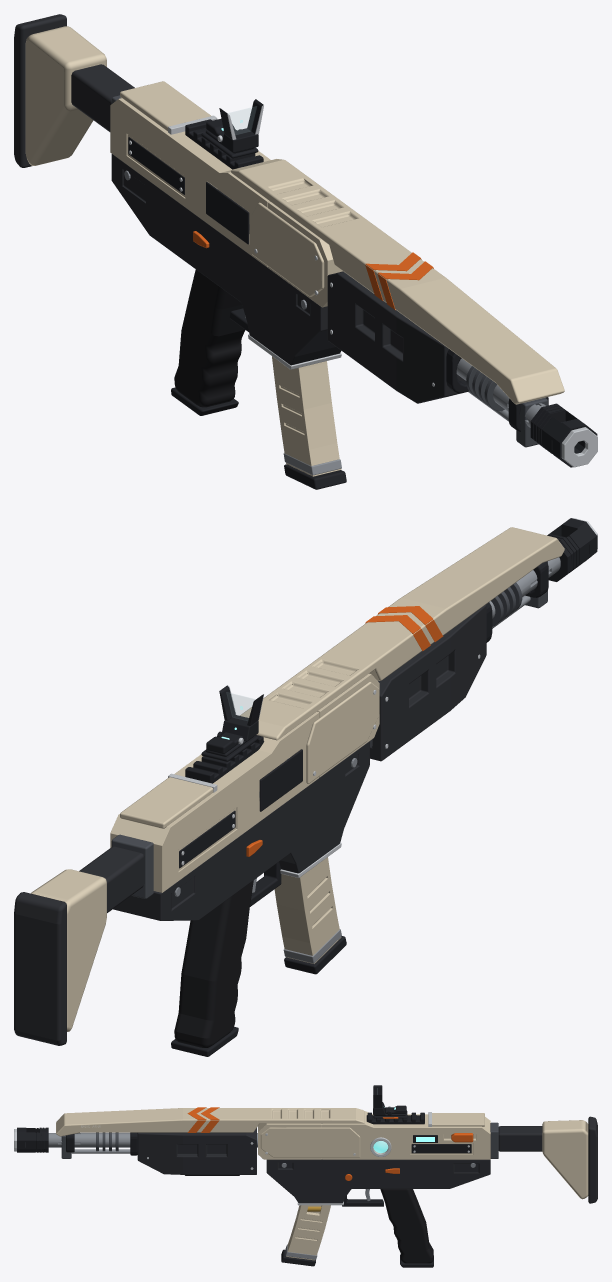
3 renders of one model, top to bottom at view 1: azimuth 30°, elevation 25°; view 2: azimuth 150°, elevation 25°; view 3: azimuth 270°, elevation 25°, orthographic. The views are drawn at different scales.
Visible parts, largest first — view 1: top_shroud, lower, handguard, upper, stock, grip, magazine, armor_r, stock_spine, top_cover, butt_pad, muzzle (+9 smaller); view 2: top_shroud, lower, upper, handguard, grip, butt_pad, stock, magazine, armor_r, top_cover, stock_spine, muzzle (+7 smaller); view 3: lower, top_shroud, handguard, upper, armor_l, stock, grip, magazine, stock_spine, barrel, butt_pad, muzzle (+9 smaller).
Boxes of the visible parts, <box> form: top_shroud: <box>231,159,564,404</box>; lower: <box>111,154,341,365</box>; handguard: <box>327,271,467,403</box>; upper: <box>110,98,342,307</box>; stock: <box>25,26,106,165</box>; grip: <box>174,269,245,407</box>; magazine: <box>272,356,341,476</box>; armor_r: <box>251,202,324,296</box>; stock_spine: <box>71,64,134,131</box>; top_cover: <box>120,81,210,131</box>; butt_pad: <box>14,14,66,167</box>; muzzle: <box>530,403,597,467</box>; top_shroud: <box>240,527,564,740</box>; lower: <box>113,741,369,920</box>; upper: <box>110,673,379,892</box>; handguard: <box>370,604,486,761</box>; grip: <box>174,880,253,1047</box>; butt_pad: <box>14,892,66,1045</box>; stock: <box>31,869,106,1031</box>; magazine: <box>274,857,341,963</box>; armor_r: <box>306,682,379,783</box>; top_cover: <box>120,777,213,828</box>; stock_spine: <box>79,846,144,912</box>; muzzle: <box>547,518,597,581</box>; lower: <box>266,1159,490,1203</box>; top_shroud: <box>56,1108,364,1136</box>; handguard: <box>137,1128,256,1174</box>; upper: <box>258,1111,490,1159</box>; armor_l: <box>260,1127,360,1157</box>; stock: <box>542,1120,588,1199</box>; grip: <box>380,1189,433,1263</box>; magazine: <box>286,1205,330,1260</box>; stock_spine: <box>498,1126,542,1151</box>; barrel: <box>48,1133,257,1147</box>; butt_pad: <box>588,1116,597,1203</box>; muzzle: <box>17,1127,48,1152</box>.
Bounding box in the file's own units: 0.0522 × 0.2604 × 0.7973.
